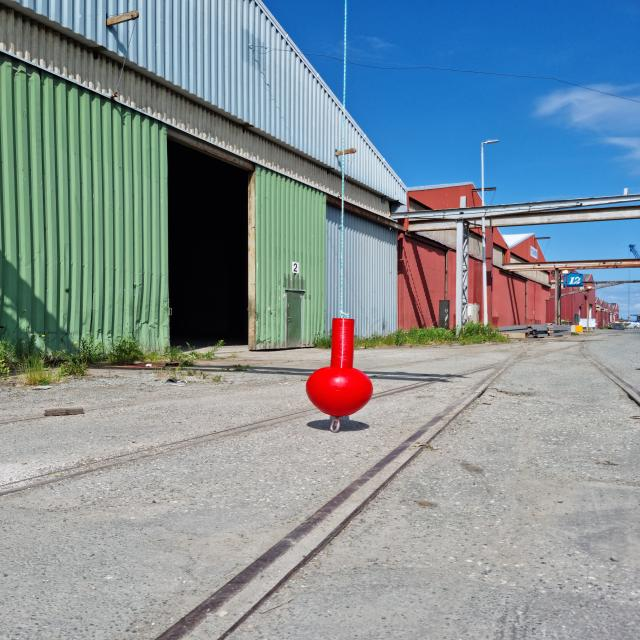red: (306, 316, 374, 416)
